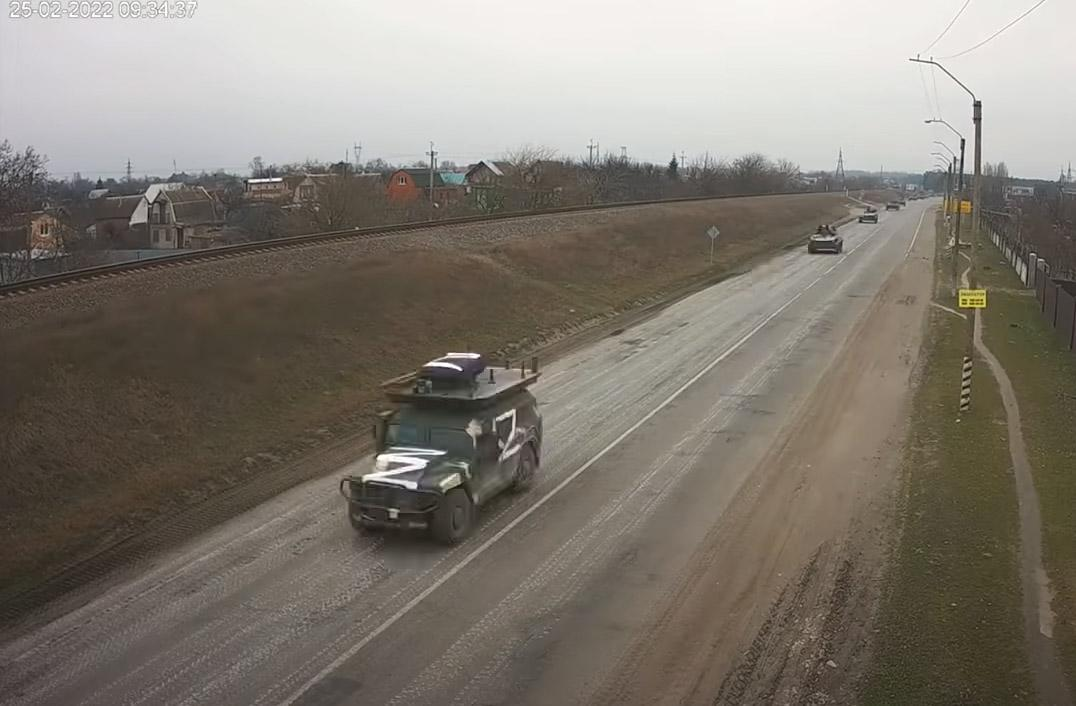armored_car: (332, 340, 546, 542)
tank: (805, 224, 845, 260), (855, 201, 880, 226), (887, 197, 903, 213), (909, 192, 920, 204)
